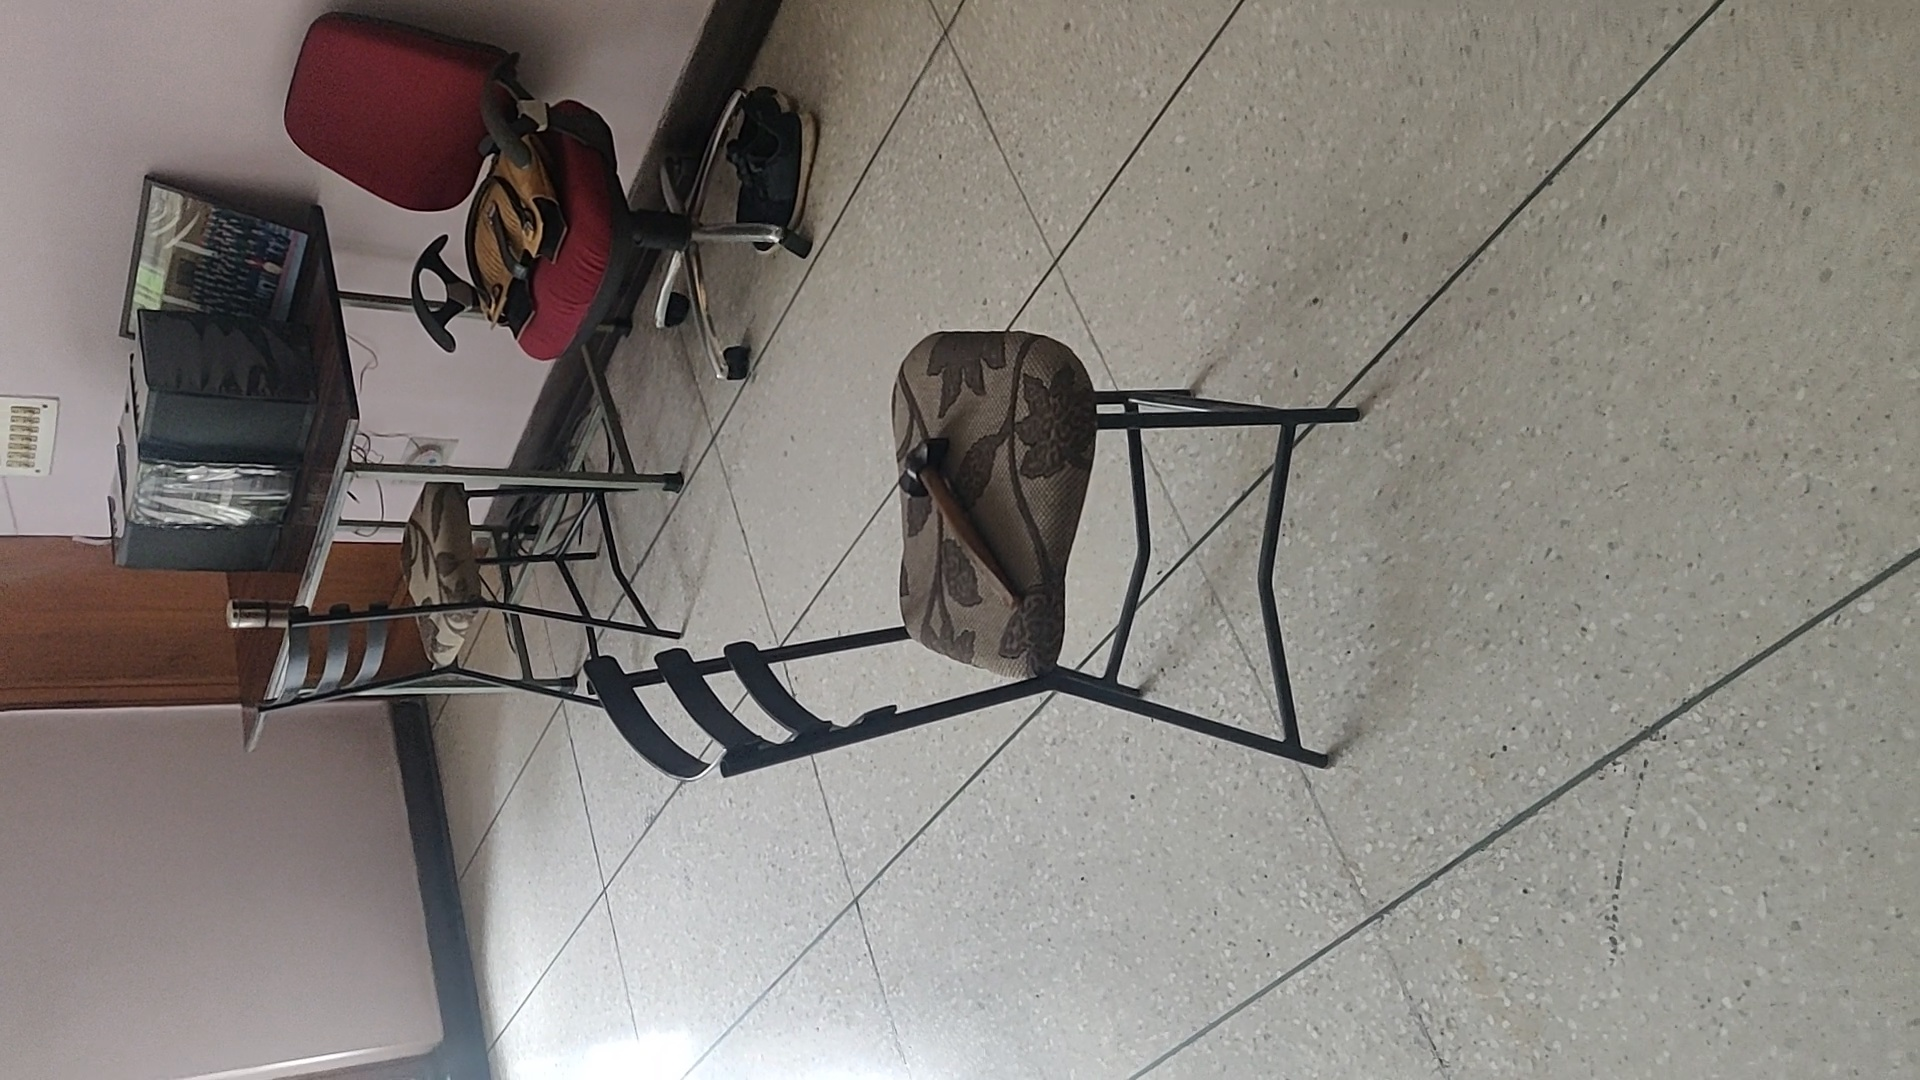hammer: (899, 436, 1015, 608)
